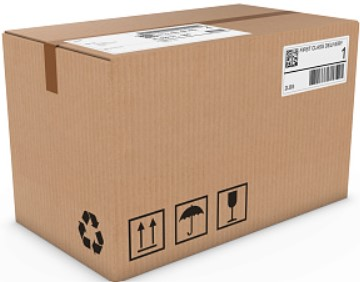stock: (2, 4, 360, 281)
